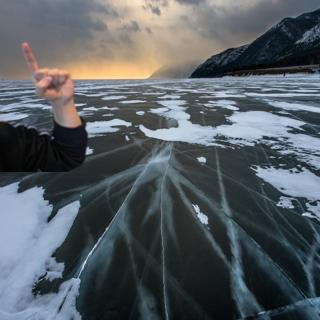IRRITATED: (18, 40, 75, 104)
